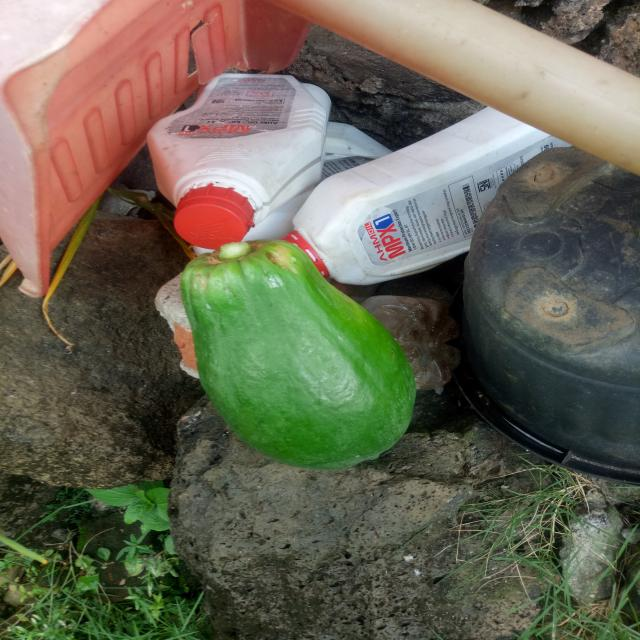Pepaya unrippen: (183, 238, 424, 470)
